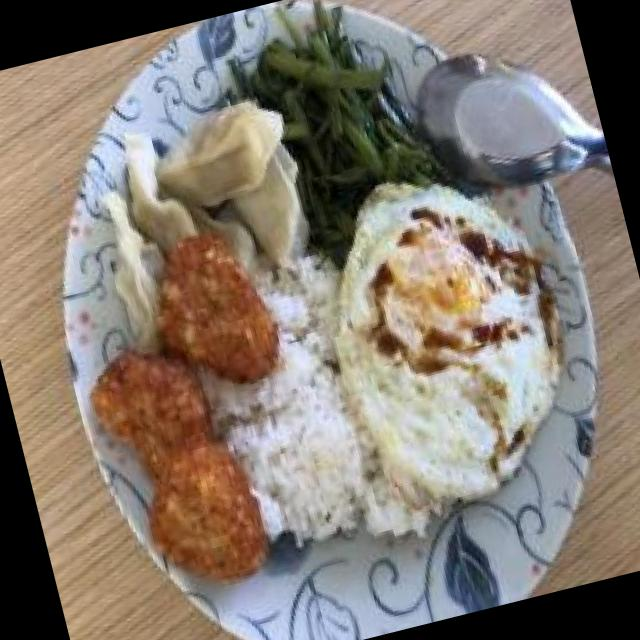carrot_eggs: (134, 218, 292, 401)
fried_dumplings: (110, 86, 308, 261)
fried_eggs: (308, 154, 596, 515)
rice: (220, 314, 388, 556)
triangle_hash_brown: (80, 324, 280, 606)
water_spinach: (258, 8, 433, 206)
